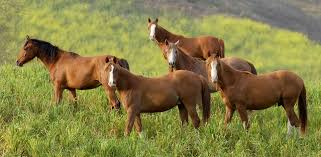Horse: (202, 46, 310, 136), (15, 35, 128, 116), (98, 57, 211, 135), (163, 39, 259, 98), (147, 18, 225, 81)
